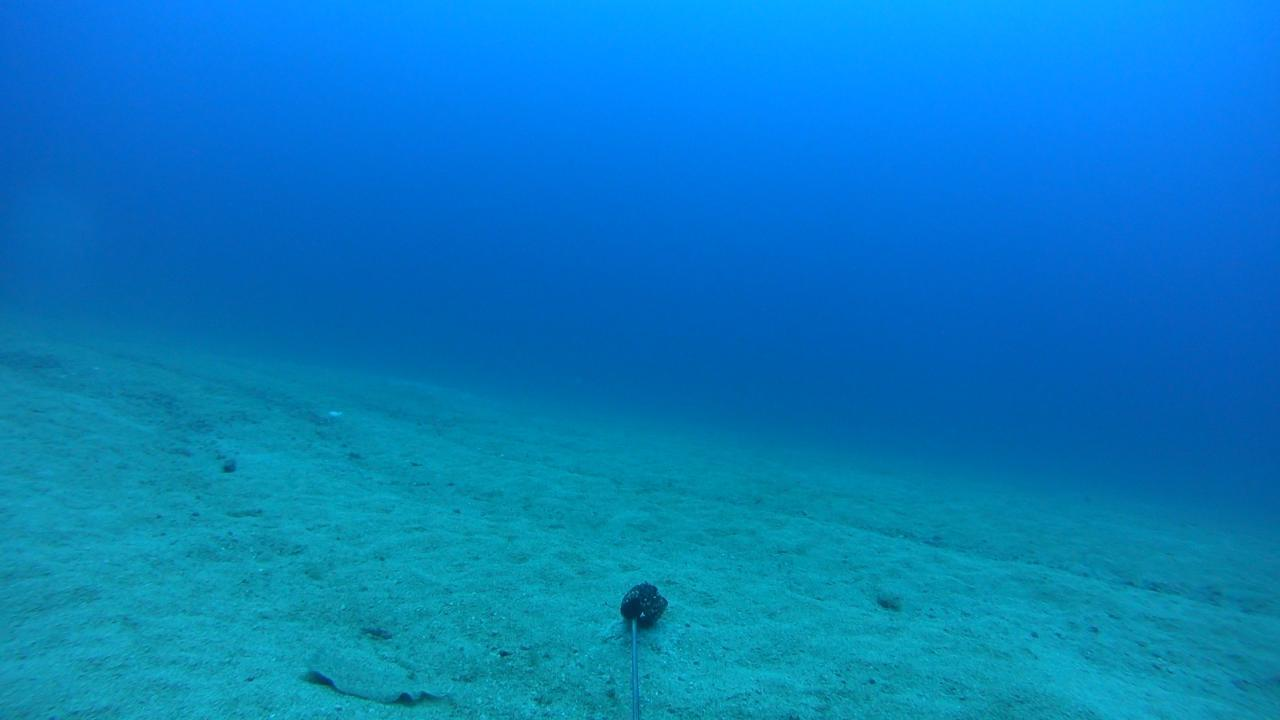bothus: (299, 642, 460, 709)
